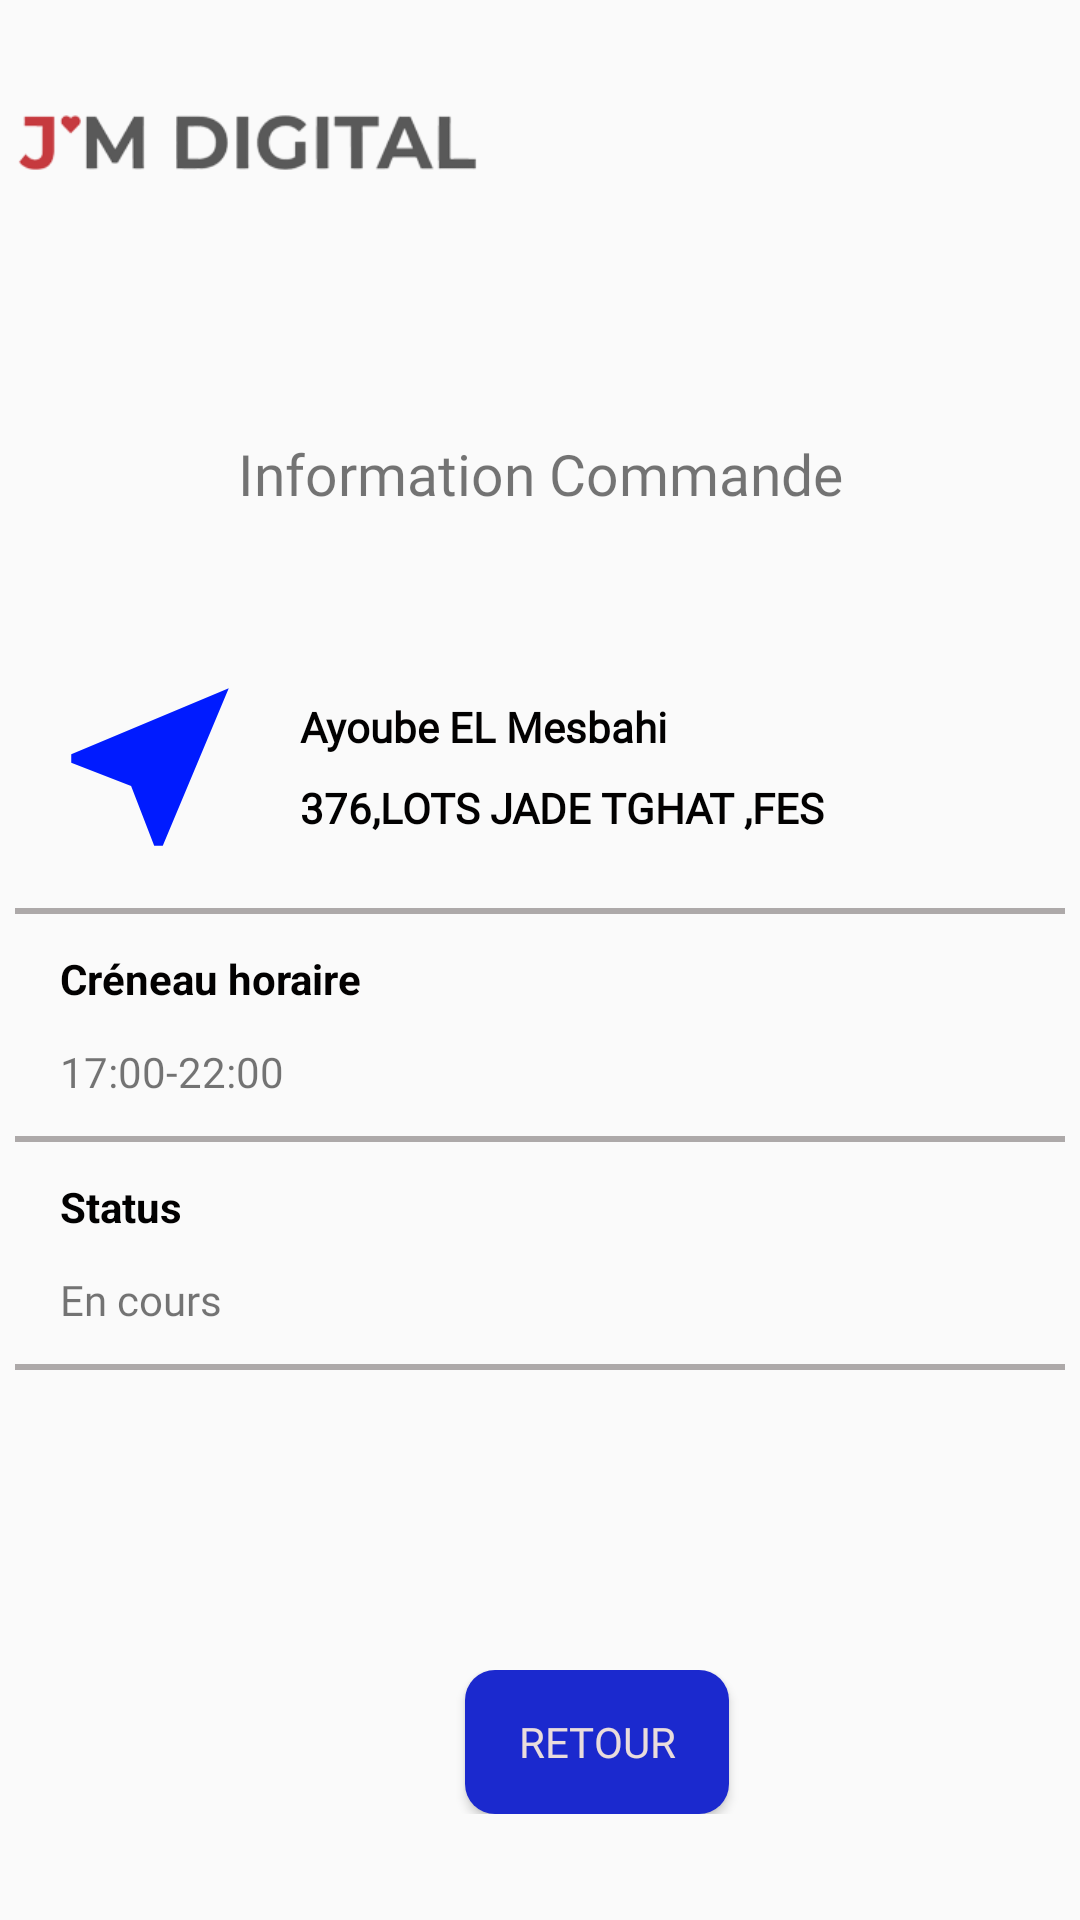

Screen size 1080w x 1920h. Icon name, then its box in pixels as (x1, y1, x2, y2):
near me: (71, 688, 229, 846)
